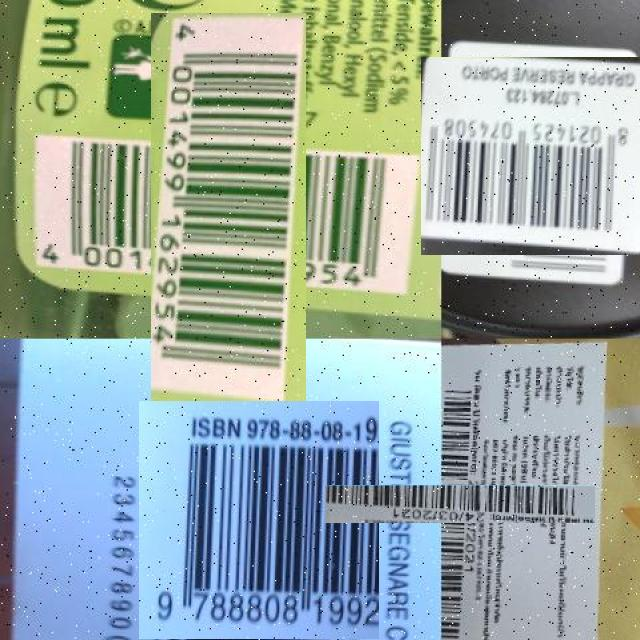Barcode: (91, 73, 365, 348), (140, 400, 379, 640), (431, 46, 640, 266), (383, 427, 537, 582)
